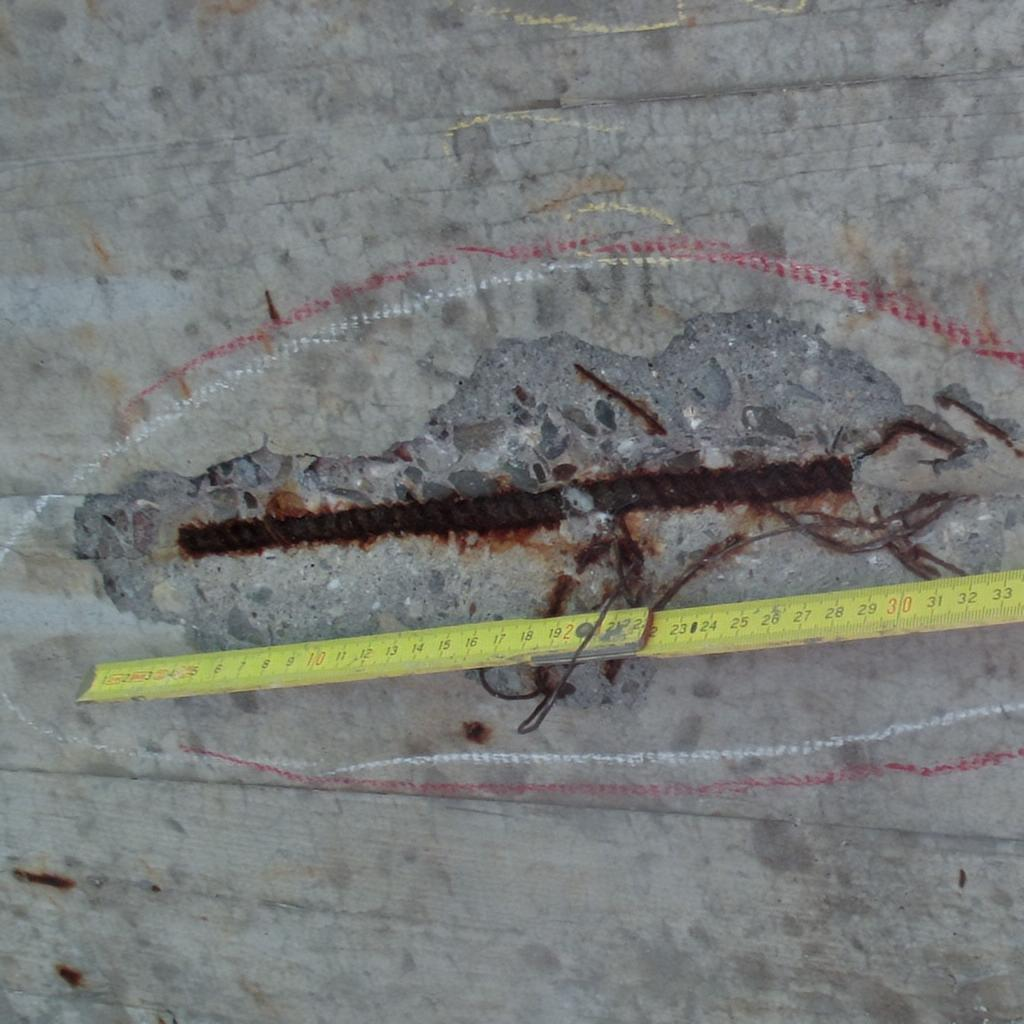exposed_rebar: (178, 488, 568, 557), (592, 458, 852, 510)
spalling: (76, 310, 1024, 647)
